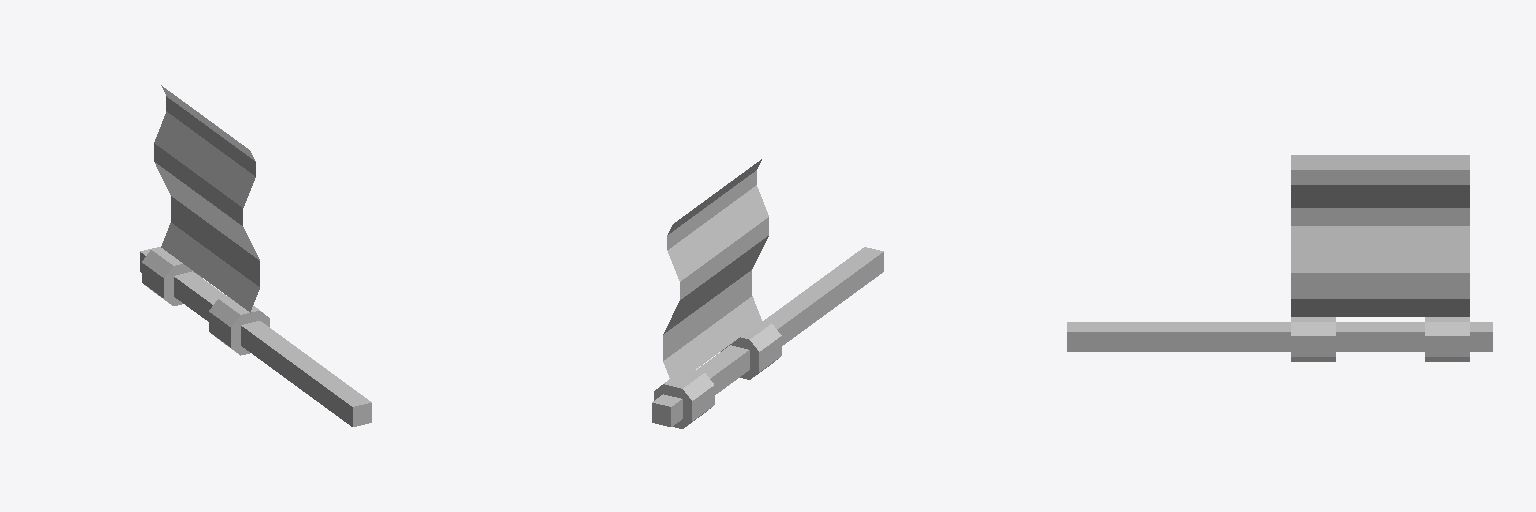
Rendered from flag.obj.
The picture shows the model from 3 angles: view 1: azimuth 30°, elevation 25°; view 2: azimuth 150°, elevation 25°; view 3: azimuth 270°, elevation 25°; orthographic projection.
Visible parts, largest first — view 1: flag.011; view 2: flag.011; view 3: flag.011.
Part boxes in pixels (x1,y1,x2,y2): flag.011: (140, 85, 371, 426); flag.011: (652, 159, 883, 428); flag.011: (1067, 155, 1492, 361).
Bounding box in the file's own units: 0.1 × 0.5 × 0.95.